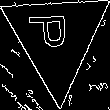P_E: (33, 19, 80, 59)
